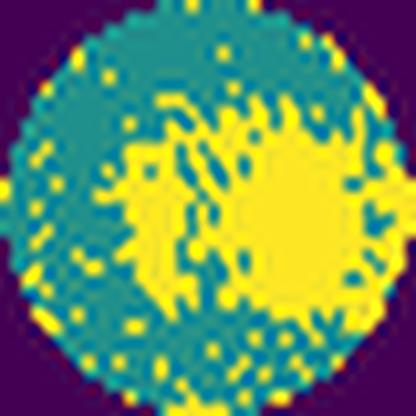Loc: (83, 87, 416, 331)
